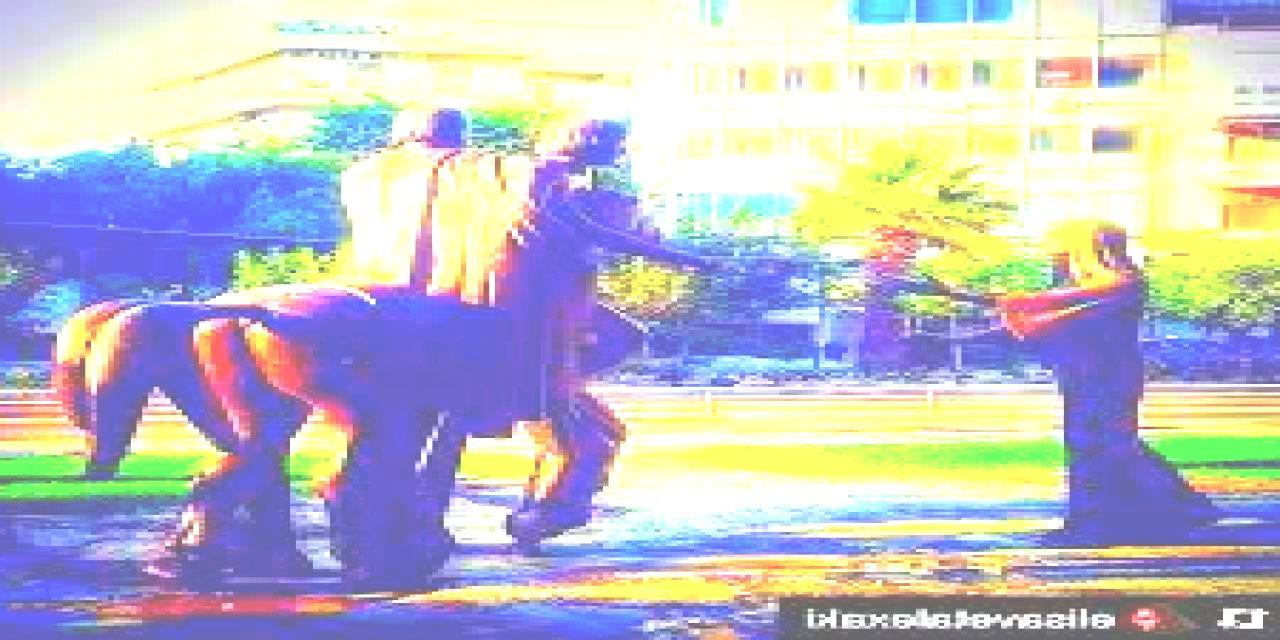Aretousa: (53, 102, 1226, 582)
